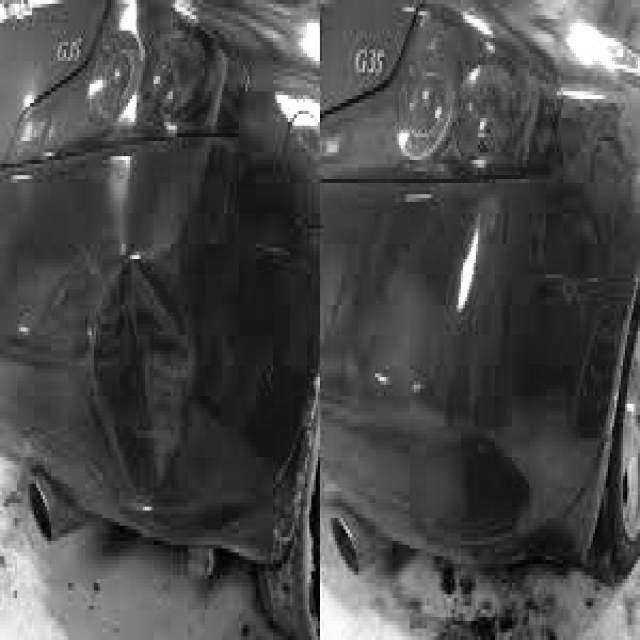rear-bumper-dent: (1, 103, 314, 579)
